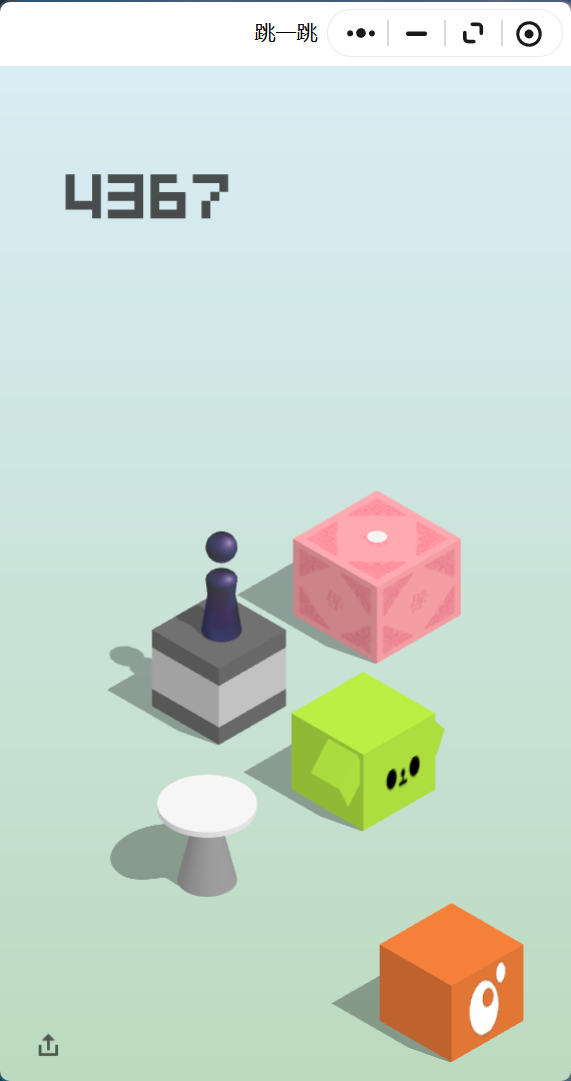piece: (205, 532, 237, 636)
target: (292, 490, 461, 585)
